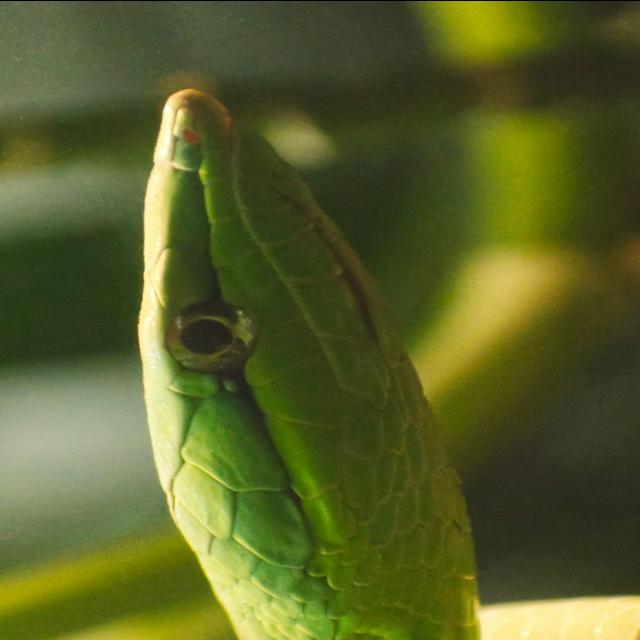Snake: (129, 86, 640, 640)
